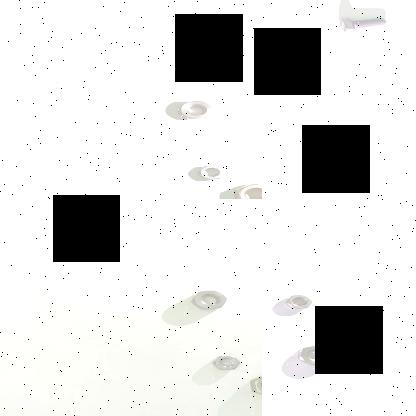Bolts: (334, 12, 390, 34)
NUTS: (176, 98, 220, 121), (296, 343, 337, 367), (190, 288, 230, 310), (189, 160, 228, 180), (208, 350, 242, 372), (233, 179, 262, 199), (284, 292, 316, 310), (247, 371, 262, 398)
